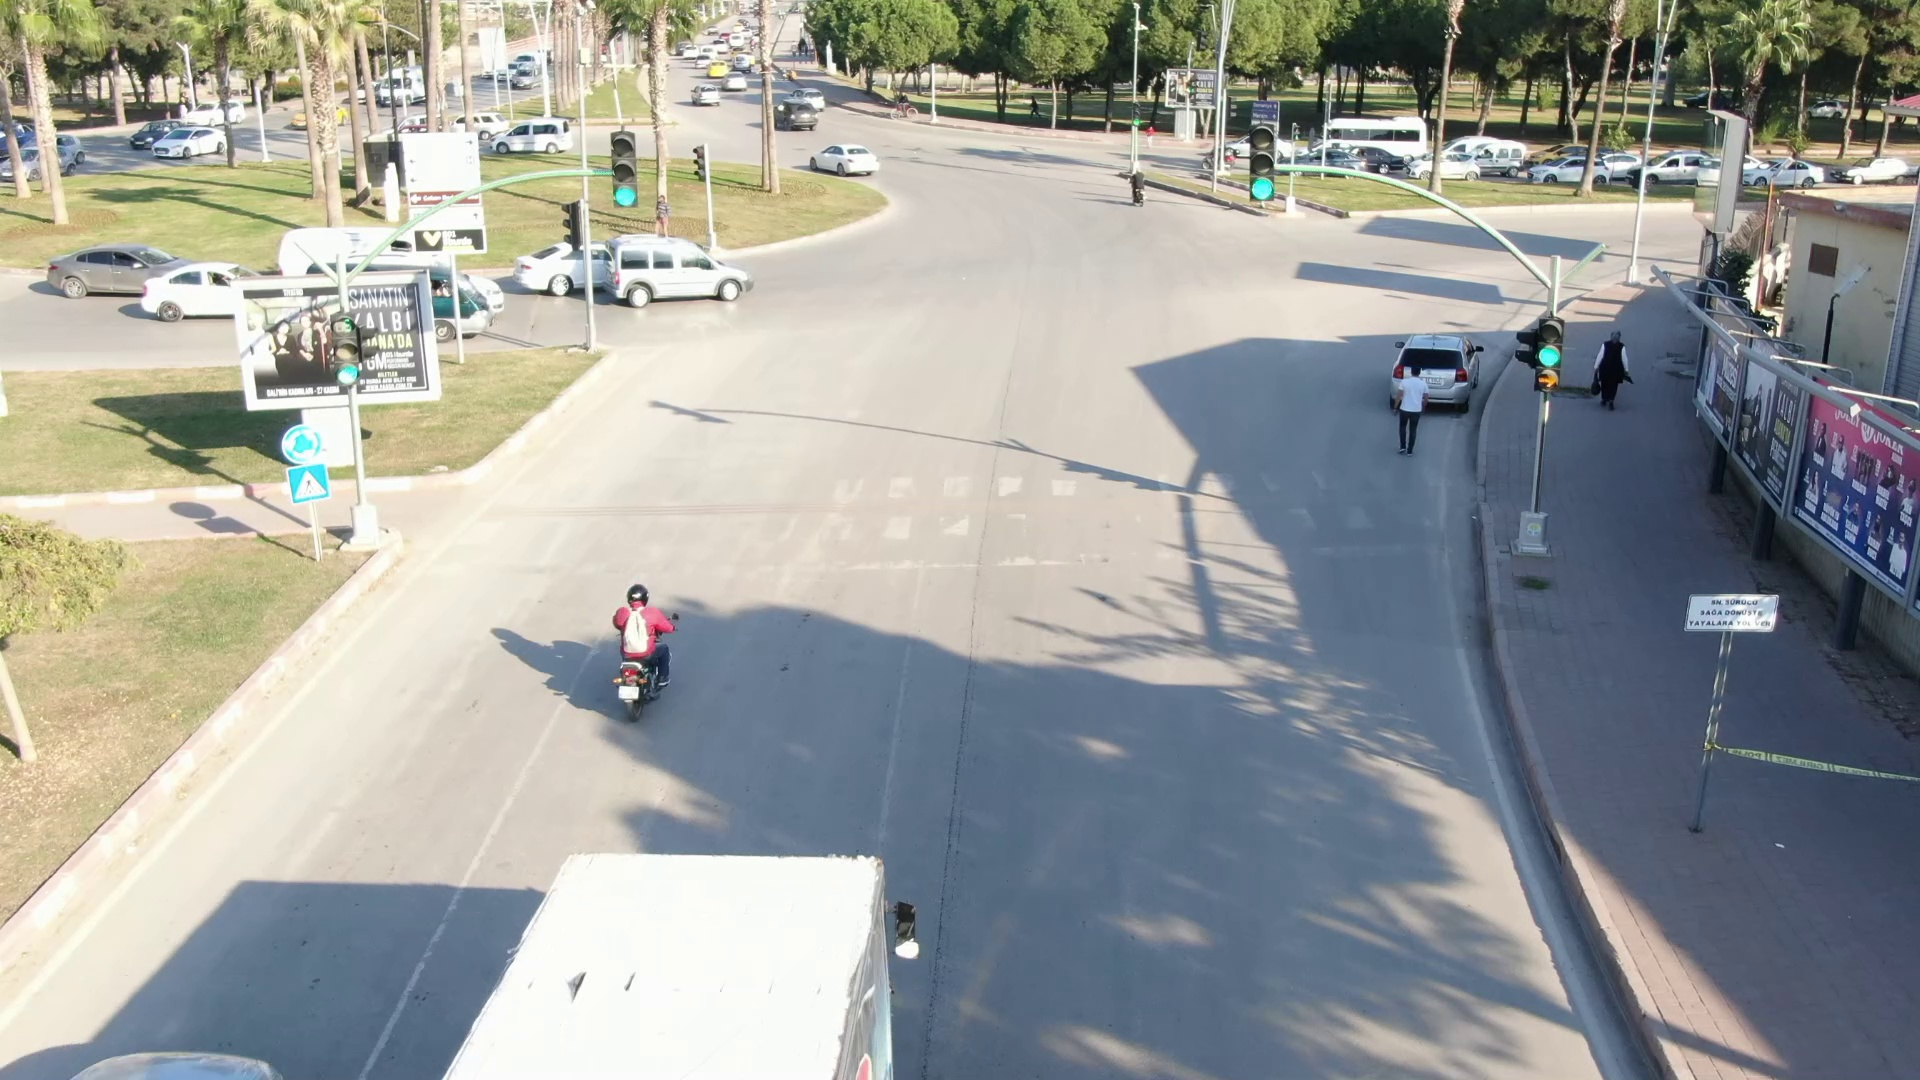car: (49, 220, 194, 323), (590, 229, 757, 314), (800, 134, 901, 186), (485, 112, 572, 157), (1526, 151, 1622, 191), (146, 118, 233, 161), (769, 80, 831, 137), (675, 77, 725, 106)
person: (603, 566, 686, 699), (1387, 353, 1431, 459), (1589, 322, 1637, 411)
